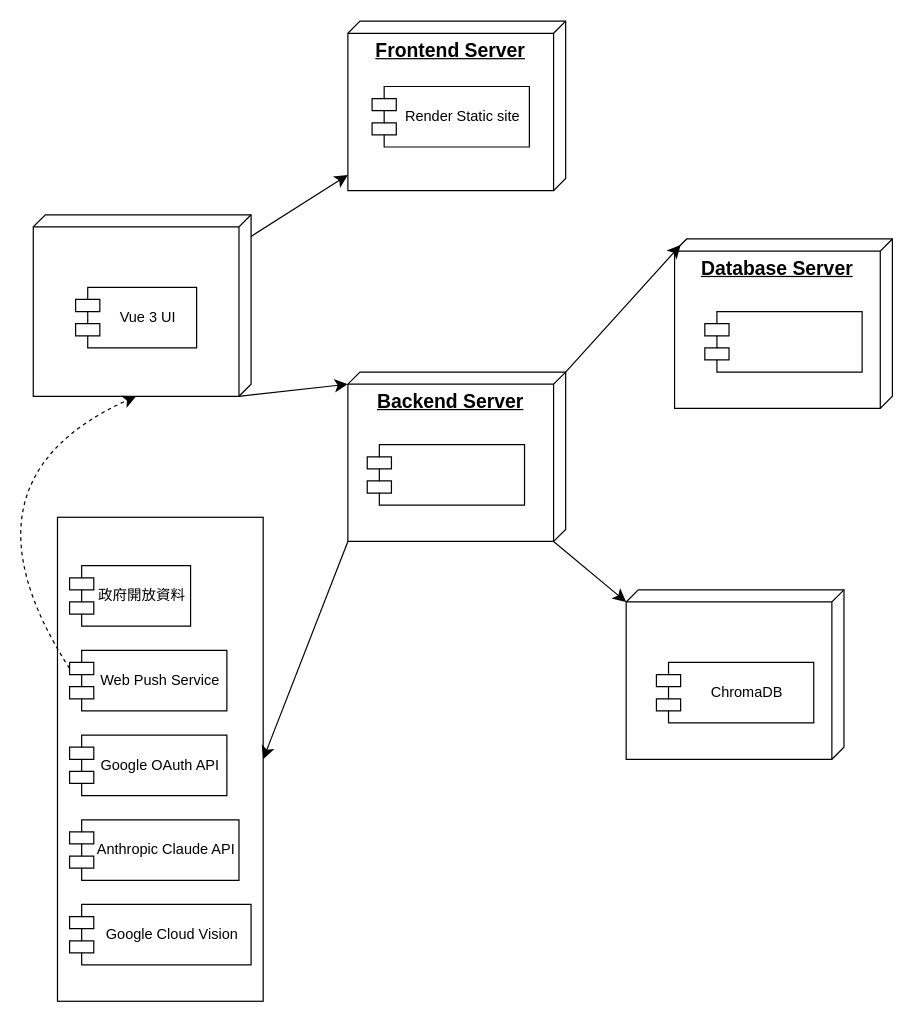
Some shapes in this 915 by 1022 pixel diagram are drawn without their labels. The box of each missing label's shape, as (x1, y1, x2, y2) in pixels:
External Service: (56, 516, 263, 1001)
FastAPI Application: (366, 443, 525, 505)
MySQL Database: (704, 310, 862, 372)
Vector DB Server: (625, 589, 844, 759)
Web Client: (32, 214, 251, 396)
